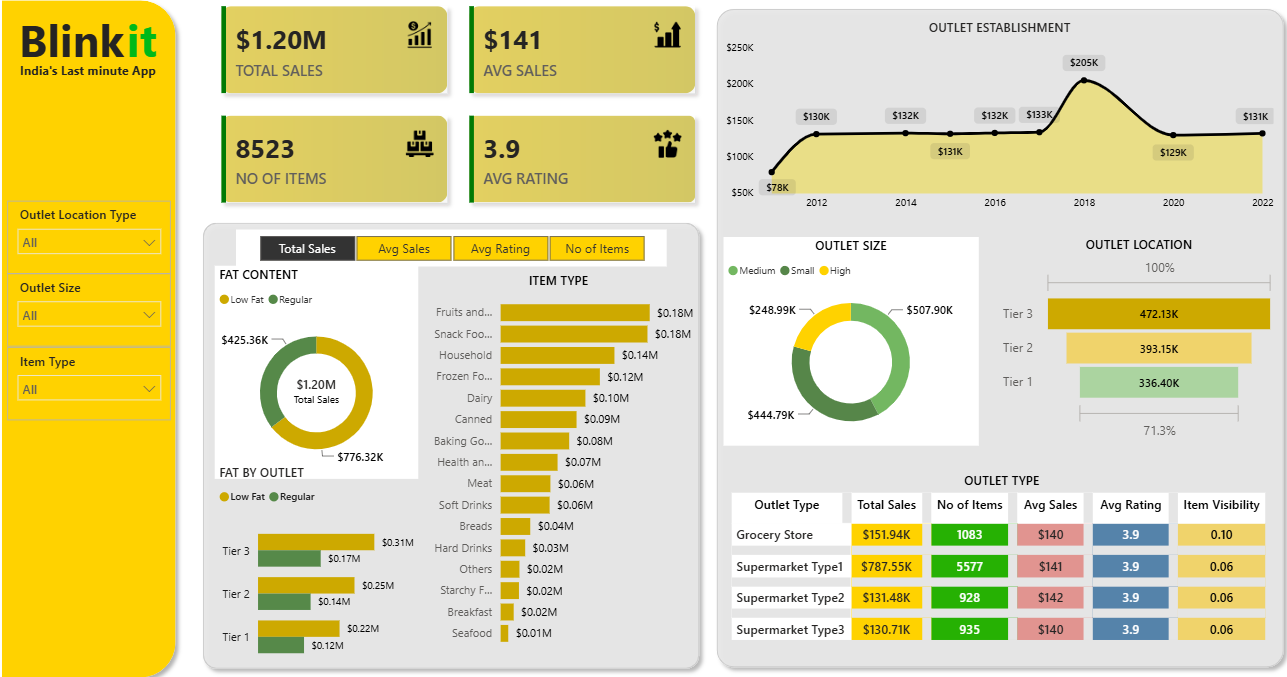

This screenshot's page, from the dashboard's own definition file:
{"tool":"powerbi","page":{"name":"Page 1","canvas":[1500,1400],"ordinal":0},"visuals":[{"type":"shape","box":[12.9,108.6,205.7,750],"z":0},{"type":"textbox","box":[25.7,121.4,180,75.7],"z":1000},{"type":"textbox","box":[25.7,178.6,180,38.6],"z":2000},{"type":"cardVisual","fields":{"Data":["BlinkIT Grocery Data.Total Sales","BlinkIT Grocery Data.Avg Sales","BlinkIT Grocery Data.No of Items","BlinkIT Grocery Data.Avg Rating"]},"box":[231.4,94.3,570,270],"z":3000},{"type":"shape","box":[231.4,348.6,554.3,500],"z":4000},{"type":"donutChart","title":"FAT CONTENT","fields":{"Y":["BlinkIT Grocery Data.Total Sales"],"Category":["BlinkIT Grocery Data.Item Fat Content"]},"box":[252.9,404.3,220,230],"z":5000},{"type":"slicer","fields":{"Values":["Metrics.Metrics"]},"box":[275.7,364.3,465.7,40],"z":6000},{"type":"cardVisual","fields":{"Data":["BlinkIT Grocery Data.Total Sales"]},"box":[303.8,492.3,117.9,94.9],"z":7000},{"type":"clusteredBarChart","title":"FAT BY OUTLET","fields":{"Y":["BlinkIT Grocery Data.Total Sales"],"Category":["BlinkIT Grocery Data.Outlet Location Type"],"Series":["BlinkIT Grocery Data.Item Fat Content"]},"box":[252.6,617.9,220.5,230.8],"z":8000},{"type":"barChart","title":"ITEM TYPE","fields":{"Y":["BlinkIT Grocery Data.Total Sales"],"Category":["BlinkIT Grocery Data.Item Type"]},"box":[472.9,411.4,302.9,414.3],"z":9000},{"type":"shape","box":[785.9,117.9,630.8,729.5],"z":10000},{"type":"lineChart","title":"OUTLET ESTABLISHMENT","fields":{"Category":["BlinkIT Grocery Data.Outlet Establishment Year"],"Y":["BlinkIT Grocery Data.Total Sales"]},"box":[800,135.9,602.6,216.7],"z":11000},{"type":"donutChart","title":"OUTLET SIZE","fields":{"Y":["BlinkIT Grocery Data.Total Sales"],"Category":["BlinkIT Grocery Data.Outlet Size"]},"box":[802.6,373.1,275.6,225.6],"z":12000},{"type":"funnel","title":"OUTLET LOCATION","fields":{"Y":["Sum(BlinkIT Grocery Data.Sales)"],"Category":["BlinkIT Grocery Data.Outlet Location Type"]},"box":[1100,371.8,303.8,225.6],"z":13000},{"type":"pivotTable","title":"OUTLET TYPE","fields":{"Rows":["BlinkIT Grocery Data.Outlet Type"],"Values":["BlinkIT Grocery Data.Total Sales","BlinkIT Grocery Data.No of Items","BlinkIT Grocery Data.Avg Sales","BlinkIT Grocery Data.Avg Rating","Avg(BlinkIT Grocery Data.Item Visibility)"]},"box":[806.4,626.9,593.6,187.2],"z":14000},{"type":"slicer","fields":{"Values":["BlinkIT Grocery Data.Outlet Location Type"]},"box":[28.2,333.3,176.9,79.5],"z":15000},{"type":"slicer","fields":{"Values":["BlinkIT Grocery Data.Outlet Size"]},"box":[28.2,412.8,176.9,79.5],"z":16000},{"type":"slicer","fields":{"Values":["BlinkIT Grocery Data.Item Type"]},"box":[28.2,492.3,176.9,79.5],"z":17000}]}

Visuals, with their boxes on the page's 1500x1400 design canvas (x1, y1, x2, y2). These are canvas units, not pixel positions in the 1287x677 screenshot, which may show the page scaled, cropped or inside an application window:
shape: <bbox>13, 109, 219, 859</bbox>
textbox: <bbox>26, 121, 206, 197</bbox>
textbox: <bbox>26, 179, 206, 217</bbox>
cardVisual - BlinkIT Grocery Data.Total Sales x BlinkIT Grocery Data.Avg Sales: <bbox>231, 94, 801, 364</bbox>
shape: <bbox>231, 349, 786, 849</bbox>
"FAT CONTENT" donutChart: <bbox>253, 404, 473, 634</bbox>
slicer - Metrics.Metrics: <bbox>276, 364, 741, 404</bbox>
cardVisual - BlinkIT Grocery Data.Total Sales: <bbox>304, 492, 422, 587</bbox>
"FAT BY OUTLET" clusteredBarChart: <bbox>253, 618, 473, 849</bbox>
"ITEM TYPE" barChart: <bbox>473, 411, 776, 826</bbox>
shape: <bbox>786, 118, 1417, 847</bbox>
"OUTLET ESTABLISHMENT" lineChart: <bbox>800, 136, 1403, 353</bbox>
"OUTLET SIZE" donutChart: <bbox>803, 373, 1078, 599</bbox>
"OUTLET LOCATION" funnel: <bbox>1100, 372, 1404, 597</bbox>
"OUTLET TYPE" pivotTable: <bbox>806, 627, 1400, 814</bbox>
slicer - BlinkIT Grocery Data.Outlet Location Type: <bbox>28, 333, 205, 413</bbox>
slicer - BlinkIT Grocery Data.Outlet Size: <bbox>28, 413, 205, 492</bbox>
slicer - BlinkIT Grocery Data.Item Type: <bbox>28, 492, 205, 572</bbox>
